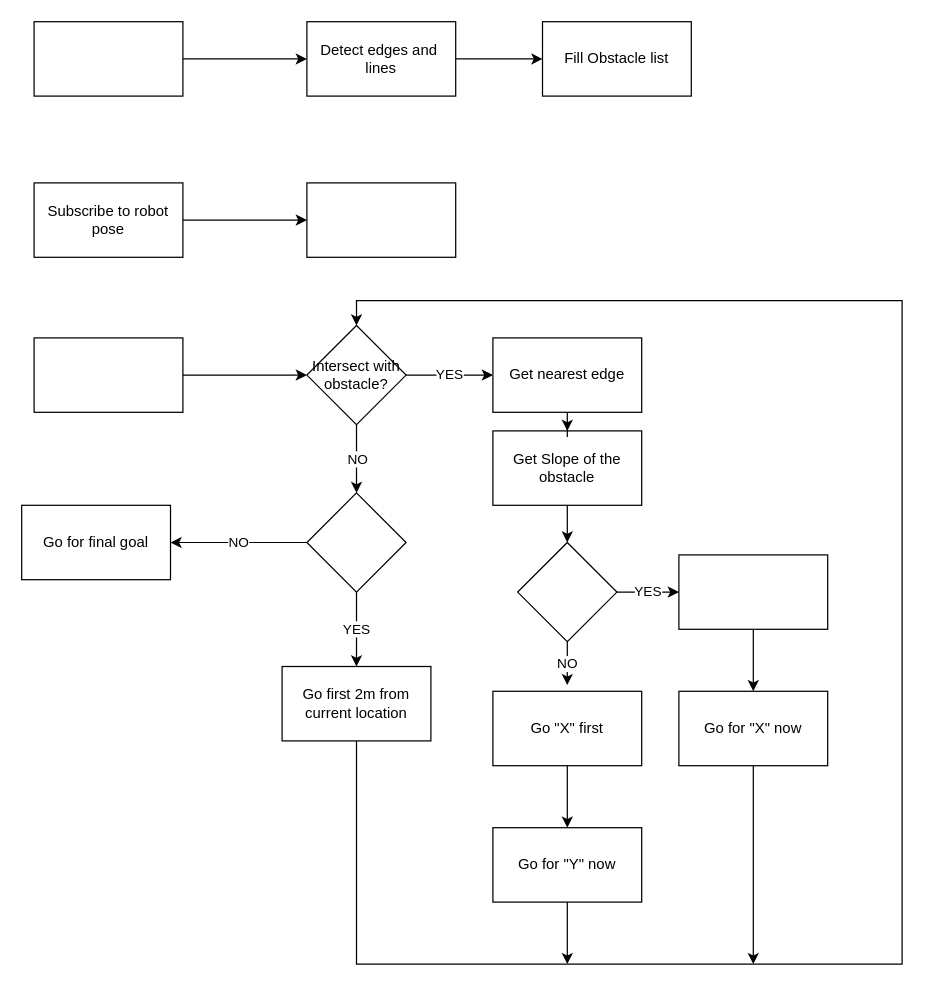
Some shapes in this 934 by 996 pixel diagram are drawn without their labels. Each missing label, with the centre of its shape:
distance > 4m: (x=356, y=542)
Go "Y" first: (x=753, y=591)
Goal Received: (x=108, y=374)
slope > 45?: (x=566, y=591)
Subscribe to laser scan: (x=108, y=58)
update current location: (x=381, y=219)
